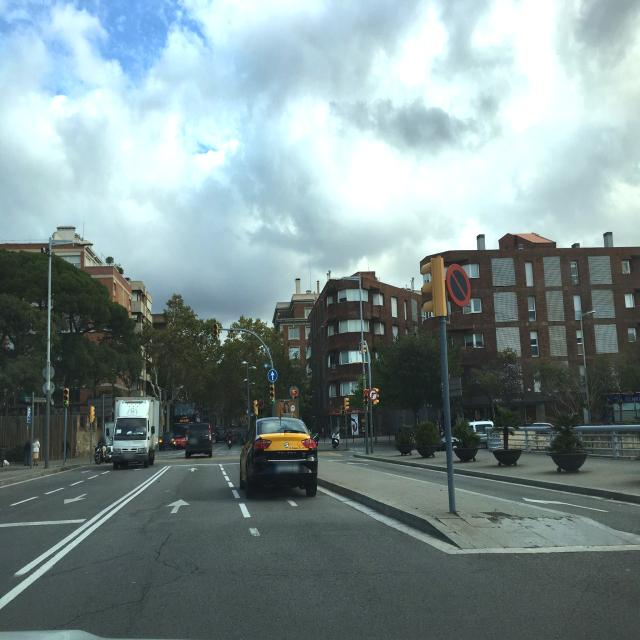bike: (95, 443, 112, 462), (332, 432, 340, 448), (227, 436, 233, 449)
car: (239, 415, 319, 497), (185, 422, 213, 458), (158, 432, 175, 451), (173, 434, 187, 449), (215, 427, 226, 443)
